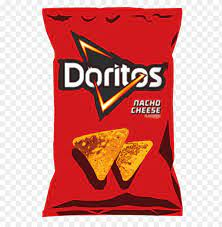Doritos: (38, 5, 190, 221)
